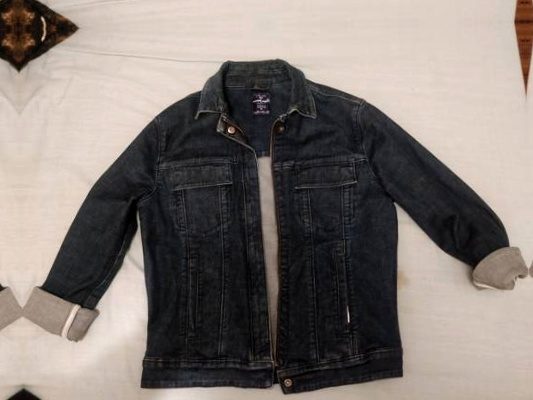Blazer: (19, 67, 521, 400), (0, 74, 23, 400)
